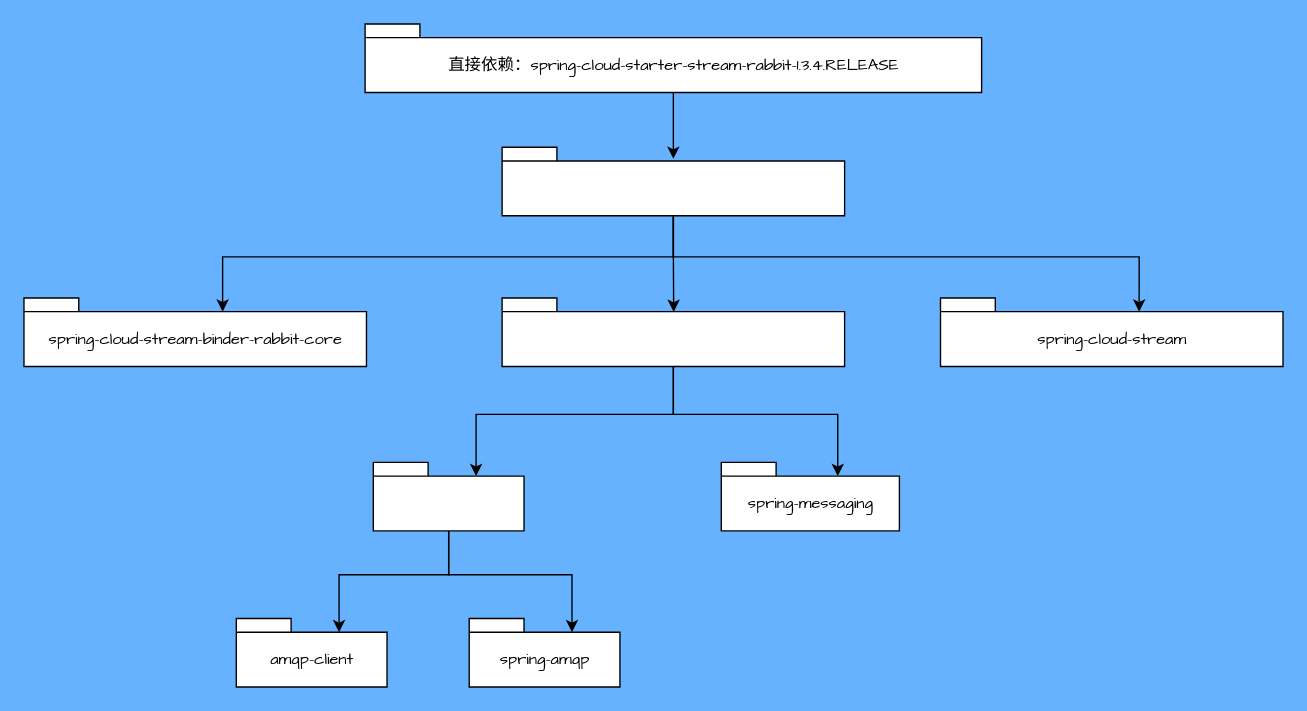
Some shapes in this 1307 by 711 pixel diagram are drawn without their labels. Each missing label, with the centre of its shape:
spring-boot-starter-amqp: the point at 673,331
spring-cloud-stream-binder-rabbit: the point at 673,181
spring-rabbit: the point at 448,496
